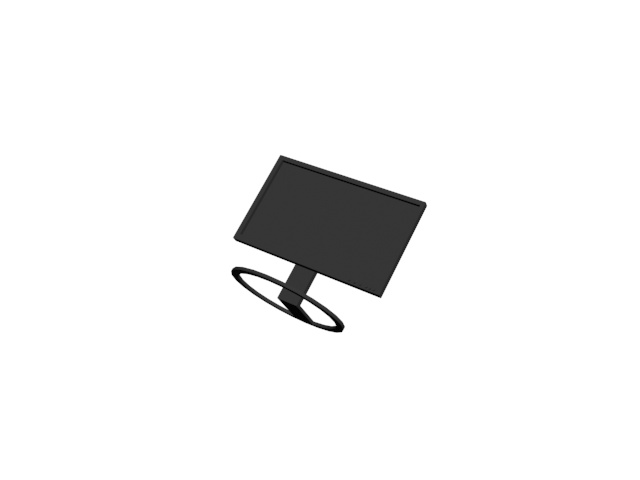monitor: (225, 153, 432, 336)
